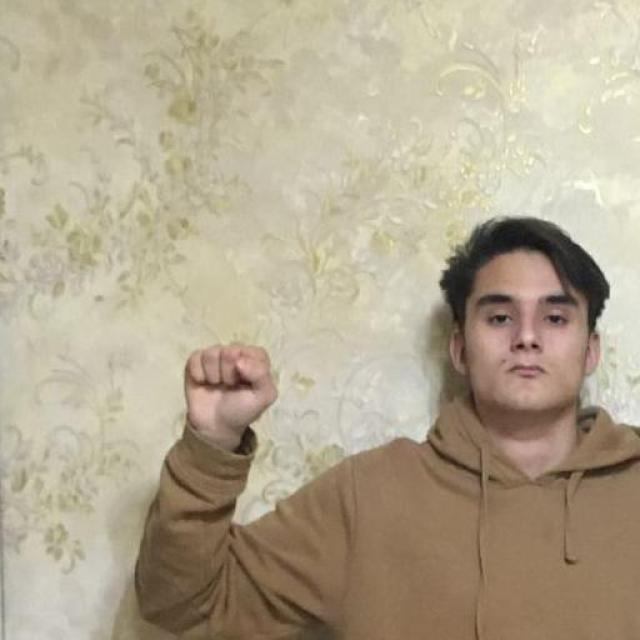hand: (182, 340, 278, 444)
